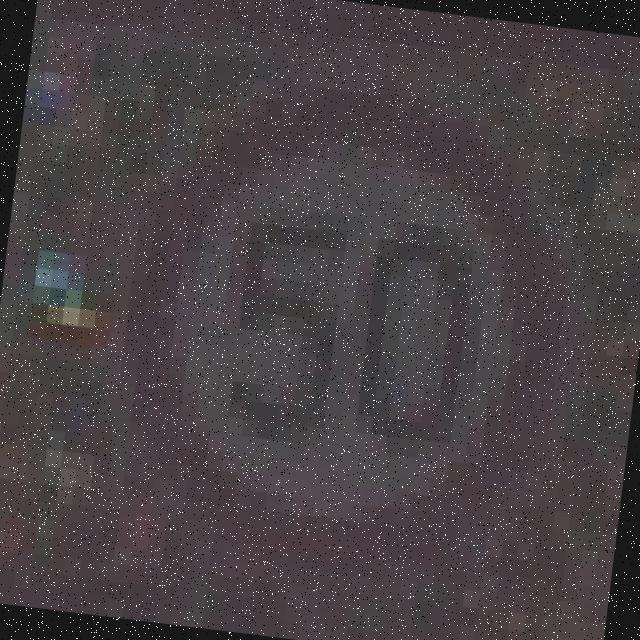Ograniczenie predkosci do 50: (105, 56, 590, 585)
